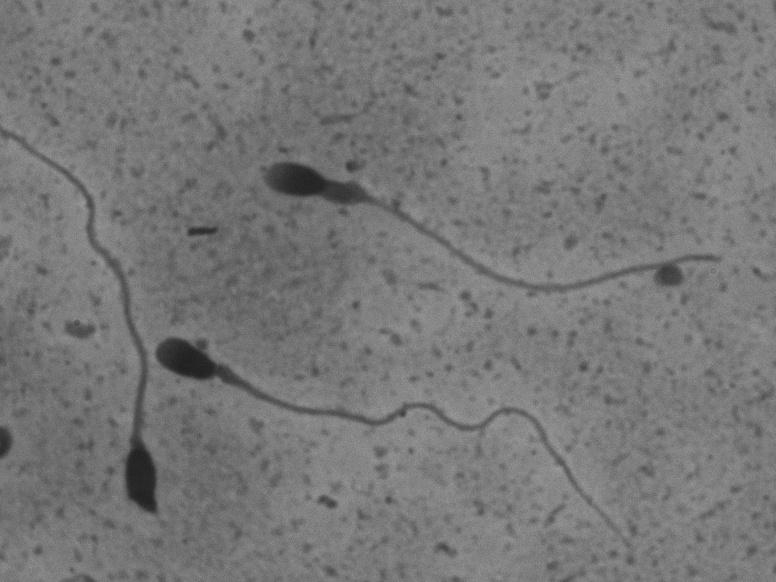Abnormal: (150, 309, 639, 555), (220, 141, 719, 305), (1, 124, 176, 529)
